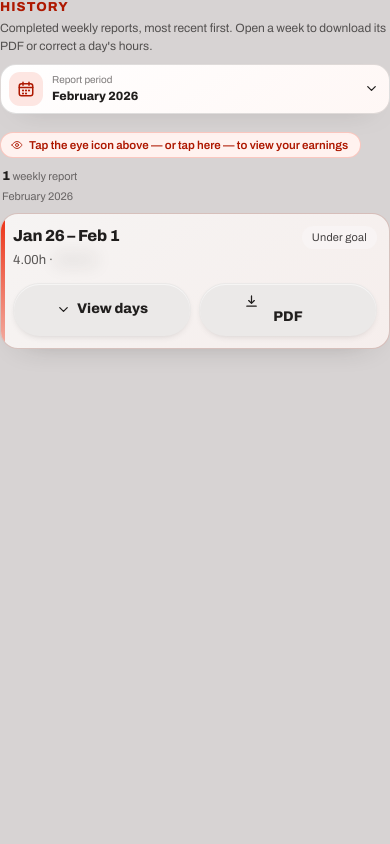
Test case: the per-week download action › filters weekly PDFs with an exact custom date range
Expected: the heading "Jan 26 – Feb 1" is shown, x1=13 y1=227 x2=120 y2=244
Click the button with aria-label "Choose report date range". click: [26, 89]
box: x1=0 y1=64 x2=389 y2=114
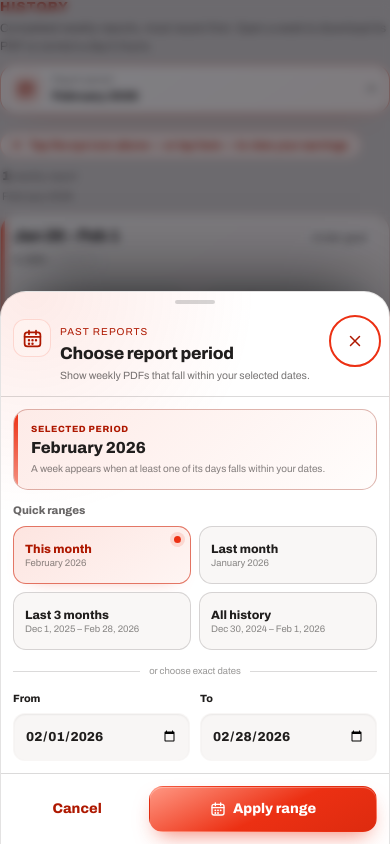
Type "2026-01-12" into the date field labelled "From". click: [102, 737]
box: x1=13 y1=713 x2=190 y2=761
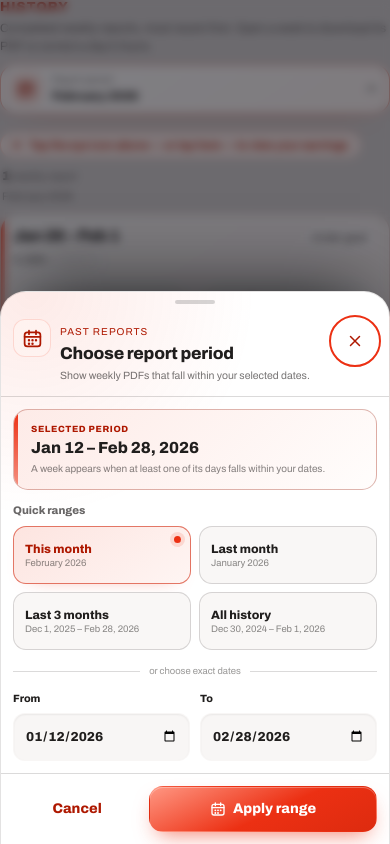
Type "2026-01-25" into the date field labelled "To". click: [288, 737]
box: x1=200 y1=713 x2=377 y2=761
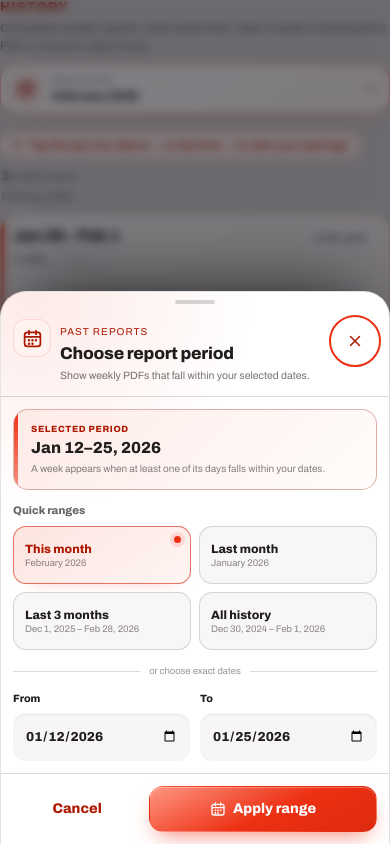
Click the button "Apply range". click: [263, 809]
box: x1=149 y1=786 x2=377 y2=832
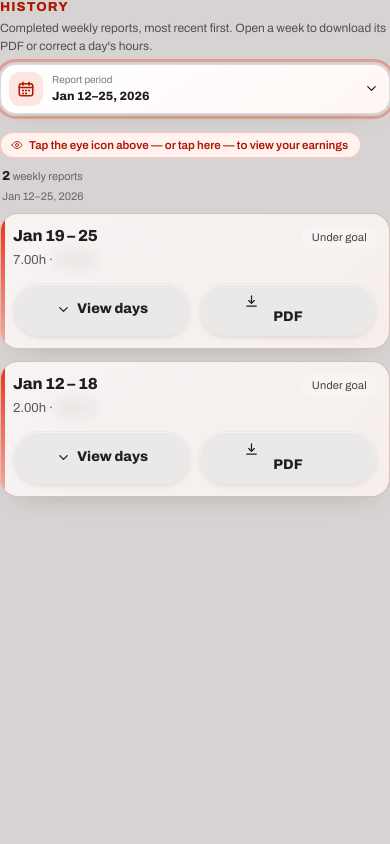
Expected: the heading "Jan 19 – 25" is shown, x1=13 y1=227 x2=97 y2=244
Expected: the heading "Jan 12 – 18" is shown, x1=13 y1=375 x2=97 y2=392
Expected: the heading "Jan 26" is gone
